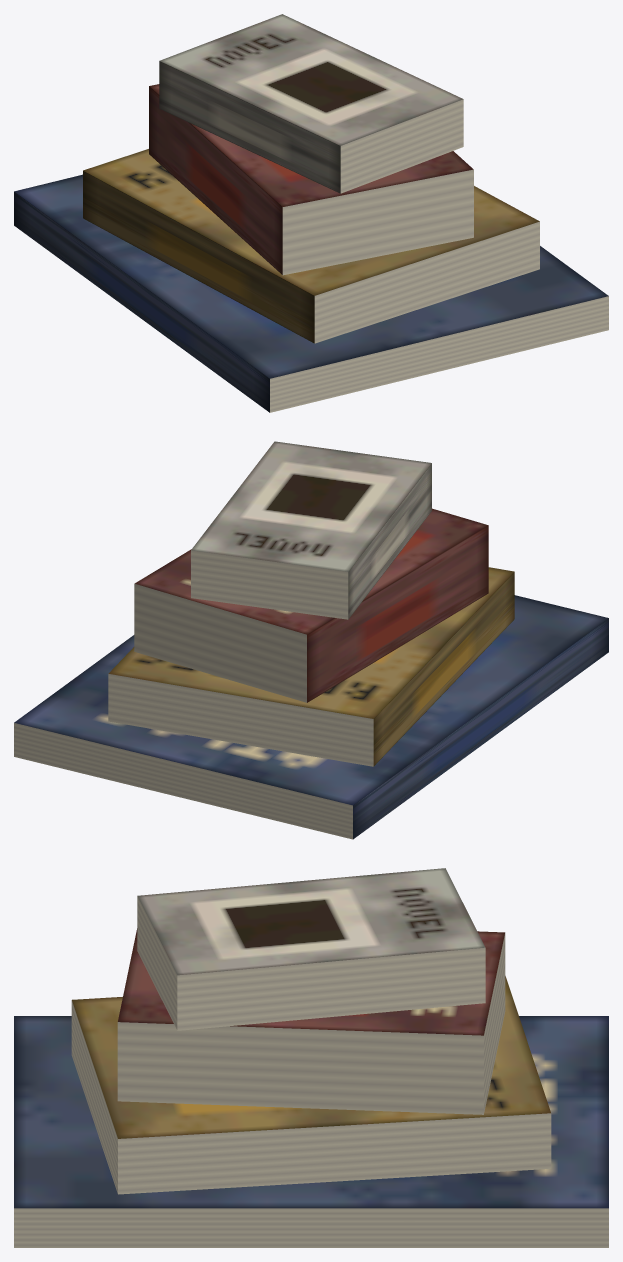
File: book_stack.obj
The picture shows the model from 3 angles, top to bottom: view 1: azimuth 30°, elevation 25°; view 2: azimuth 150°, elevation 25°; view 3: azimuth 270°, elevation 25°; orthographic projection. The views are drawn at different scales.
Visible parts, largest first — view 1: book_stack; view 2: book_stack; view 3: book_stack.
Boxes of the visible parts, x1=… form: book_stack: x1=14, y1=14, x2=608, y2=412; book_stack: x1=14, y1=441, x2=608, y2=839; book_stack: x1=14, y1=868, x2=608, y2=1247.
Size of the model in its own units: 0.26 by 0.145 by 0.34.
1 material, 1 textured.
